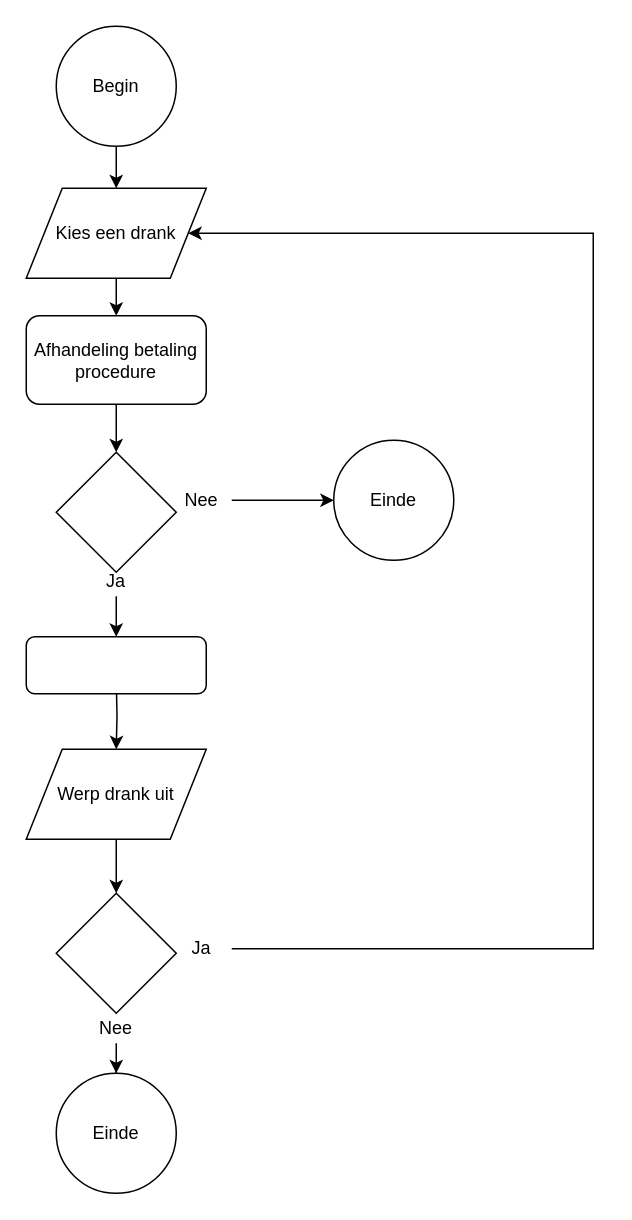
Image size: 632x1220. Some labels were removed from this diagram. The shapes that lost their labels are listed below. From the top down, each one's box as (x1, y1, x2, y2) in pixels, then its label:
(55, 451, 176, 572): Betaling Afgerond?
(25, 635, 206, 694): Maak drank.
(55, 892, 176, 1013): Nog een drank?
